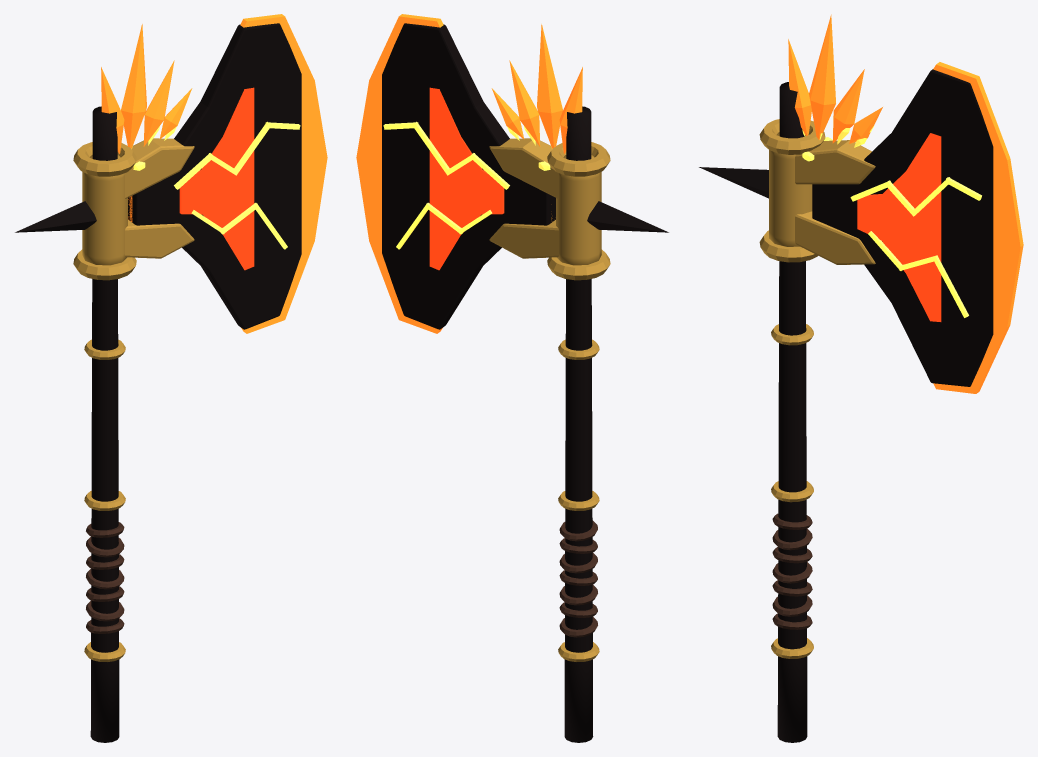
Rendered from ember-crescent.glb.
3 renders of one model, left to right at view 1: azimuth 30°, elevation 25°; view 2: azimuth 150°, elevation 25°; view 3: azimuth 330°, elevation 25°, orthographic. The views are drawn at different scales.
Parts seen in each view (by area): view 1: AX3_Blade, AX3_Haft, AX3_Core, AX3_Edge, AX3_Socket, AX3_Jaw1, AX3_Jaw-1, AX3_Flame1, AX3_Socket_Top, AX3_Spike, AX3_Socket_Bot, AX3_Flame2 (+2 smaller); view 2: AX3_Blade, AX3_Haft, AX3_Core, AX3_Edge, AX3_Socket, AX3_Jaw1, AX3_Jaw-1, AX3_Flame1, AX3_Socket_Top, AX3_Spike, AX3_Socket_Bot, AX3_Flame2 (+2 smaller); view 3: AX3_Blade, AX3_Haft, AX3_Core, AX3_Edge, AX3_Socket, AX3_Jaw1, AX3_Jaw-1, AX3_Flame1, AX3_Socket_Top, AX3_Flame0, AX3_Spike, AX3_Flame2 (+1 smaller).
Boxes of the visible parts, box(x1,y1,x2,y2) form: AX3_Blade: box(128, 23, 301, 329); AX3_Haft: box(90, 106, 119, 742); AX3_Core: box(179, 87, 254, 270); AX3_Edge: box(128, 14, 327, 333); AX3_Socket: box(82, 155, 127, 265); AX3_Jaw1: box(125, 138, 194, 198); AX3_Jaw-1: box(125, 220, 194, 258); AX3_Flame1: box(121, 24, 146, 148); AX3_Socket_Top: box(73, 142, 136, 176); AX3_Spike: box(15, 201, 96, 232); AX3_Socket_Bot: box(73, 249, 136, 280); AX3_Flame2: box(143, 60, 174, 146); AX3_Blade: box(382, 23, 555, 329); AX3_Haft: box(564, 106, 593, 742); AX3_Core: box(429, 87, 504, 270); AX3_Edge: box(356, 14, 552, 333); AX3_Socket: box(556, 155, 601, 265); AX3_Jaw1: box(489, 138, 558, 198); AX3_Jaw-1: box(489, 220, 558, 258); AX3_Flame1: box(537, 24, 562, 148); AX3_Socket_Top: box(547, 142, 610, 176); AX3_Spike: box(587, 201, 668, 232); AX3_Socket_Bot: box(547, 249, 610, 280); AX3_Flame2: box(509, 60, 540, 146); AX3_Blade: box(812, 69, 993, 386); AX3_Haft: box(777, 82, 807, 742); AX3_Core: box(857, 133, 941, 321); AX3_Edge: box(933, 62, 1023, 393); AX3_Socket: box(769, 132, 812, 246); AX3_Jaw1: box(795, 140, 875, 184); AX3_Jaw-1: box(795, 211, 875, 264); AX3_Flame1: box(809, 14, 835, 139); AX3_Socket_Top: box(759, 119, 825, 154); AX3_Flame0: box(788, 39, 811, 135); AX3_Spike: box(699, 167, 768, 198); AX3_Flame2: box(832, 69, 864, 143).
Size of the model in its own units: 0.7561 by 1.63 by 0.1344.
